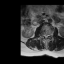CCS_stenosis: (45, 33, 46, 41)
LFS_normal: (48, 32, 50, 37)
LLS_stenosis: (46, 33, 48, 39)
RFS_normal: (41, 32, 43, 38)
RLS_stenosis: (43, 33, 45, 38)
